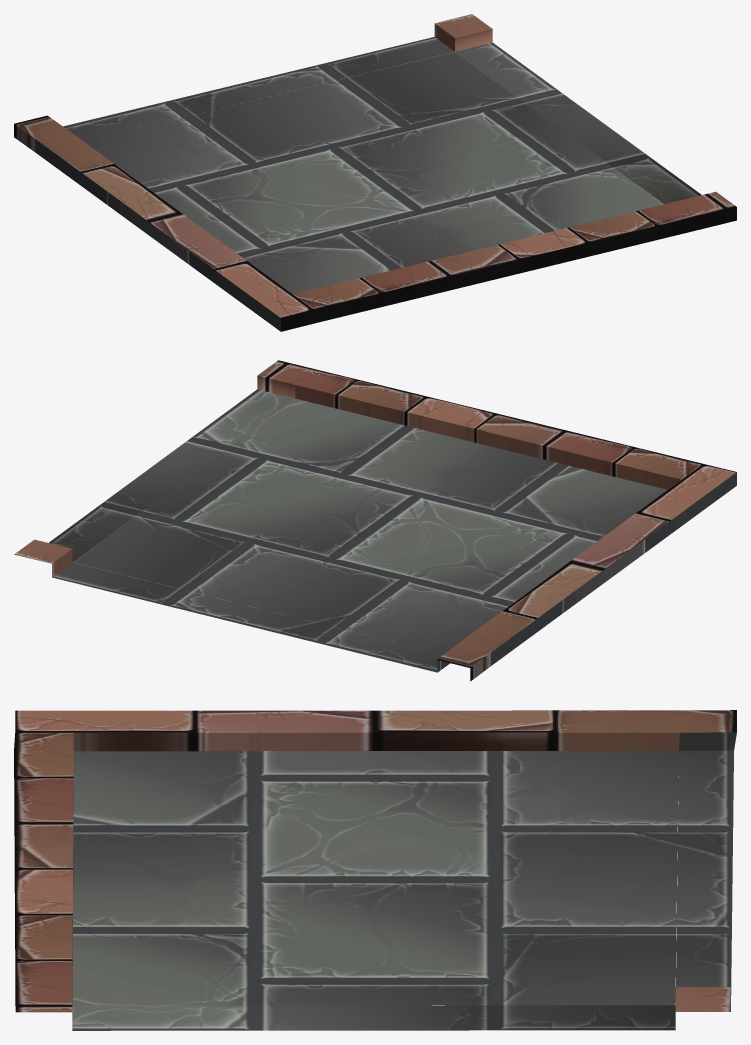
File: Left path extender 2 .fbx
3 renders of one model, top to bottom at view 1: azimuth 30°, elevation 25°; view 2: azimuth 150°, elevation 25°; view 3: azimuth 270°, elevation 25°, orthographic. The views are drawn at different scales.
Visible parts, largest first — view 1: Left path extentder 2; view 2: Left path extentder 2; view 3: Left path extentder 2.
Boxes of the visible parts, box(x1,y1,x2,y2) form: Left path extentder 2: box(14, 14, 736, 331); Left path extentder 2: box(14, 360, 736, 681); Left path extentder 2: box(14, 710, 736, 1030).
Size of the model in its own units: 528 by 15 by 534.
2 materials, 2 textured.
